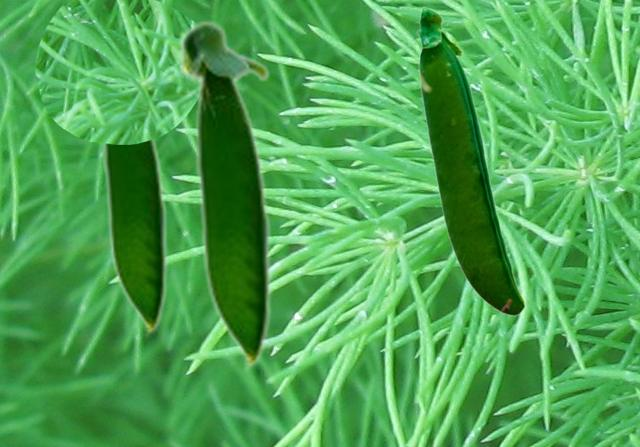pea: (416, 5, 524, 315), (177, 18, 271, 373), (99, 138, 167, 338)
